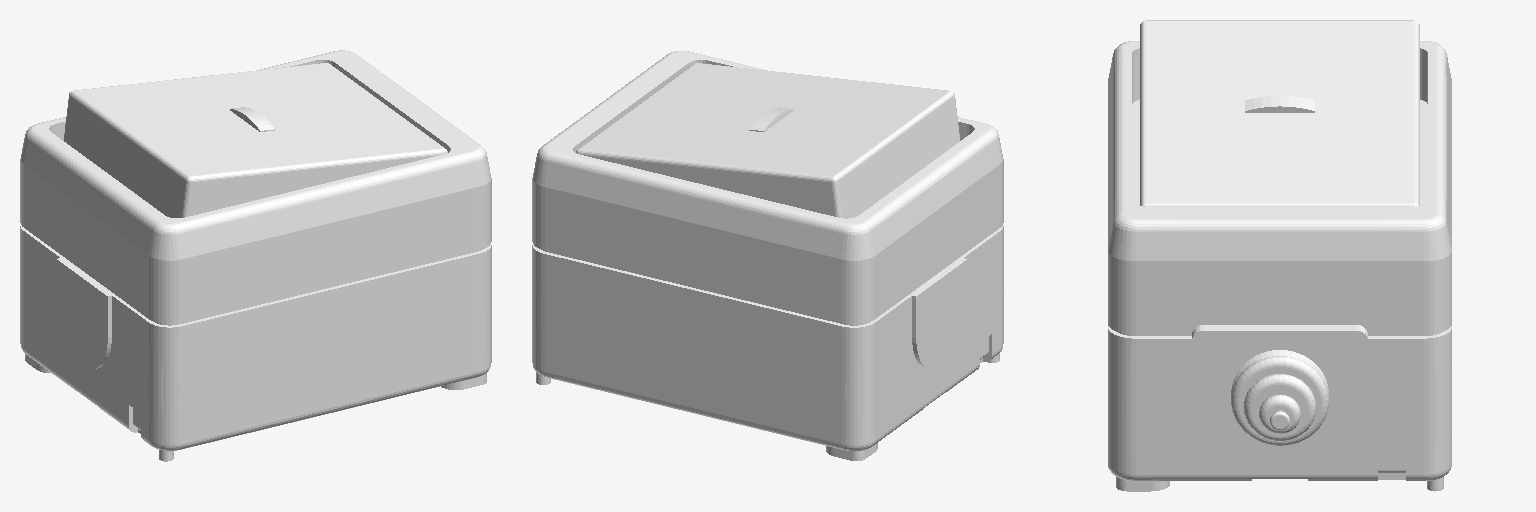
The robot description file, URDF, robot "obj_000026":
<?xml version="1.0" ?>
<robot name="obj_000026">
   <link name="base_link">
      <visual>
         <geometry>
            <mesh filename="package://agimus_demo_05_pick_and_place/urdf/tless/obj_26.obj" scale="0.001 0.001 0.001"/>
         </geometry>
         <material name="mat_part0">
            <color rgba="1.0 1.0 1.0 1.0"/>
         </material>
      </visual>
      <collision>
         <geometry>
            <mesh filename="package://agimus_demo_05_pick_and_place/urdf/tless/obj_26.obj" scale="0.001 0.001 0.001"/>
         </geometry>
      </collision>
      <inertial>
         <origin rpy="0 0 0" xyz="0.0 0.0 0.0"/>
         <mass value="0.1"/>
         <inertia ixx="1" ixy="0" ixz="0" iyy="1" iyz="0" izz="1"/>
      </inertial>
   </link>
</robot>

--- What the picture shows (computed from the rendered views, not written in the file) ---
3 views of the same robot in one strip: view 1: azimuth 30°, elevation 25°; view 2: azimuth 150°, elevation 25°; view 3: azimuth 270°, elevation 25° (orthographic).
Model obj_000026 with 1 links and 0 joints (none), rooted at base_link, posed every joint at zero.
Visible links, largest first — view 1: base_link; view 2: base_link; view 3: base_link.
Boxes of the visible links, x1=… form: base_link: x1=20, y1=50, x2=491, y2=461; base_link: x1=532, y1=51, x2=1003, y2=460; base_link: x1=1108, y1=20, x2=1451, y2=491.
Size in the robot's own frame: 0.096 by 0.0615 by 0.0608 metres.
1 mesh visuals loaded from 1 distinct referenced files (1 OBJ).
